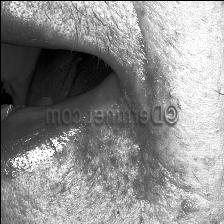Toxin: (80, 124, 160, 202)
